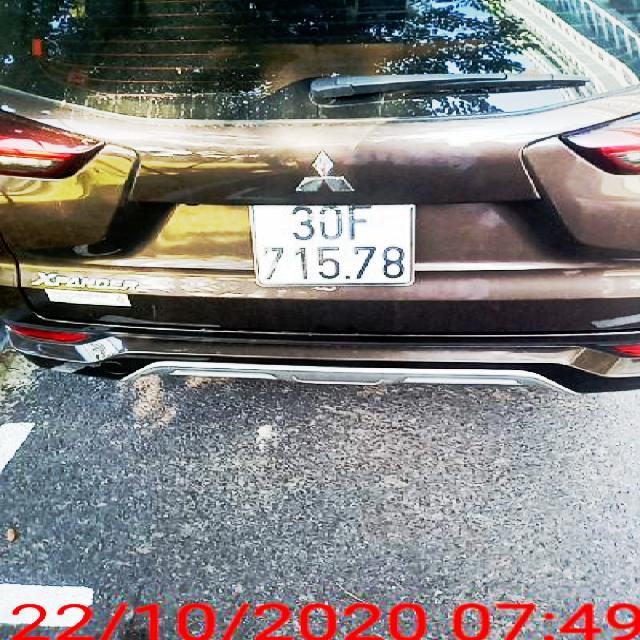license_plate: (254, 204, 416, 286)
